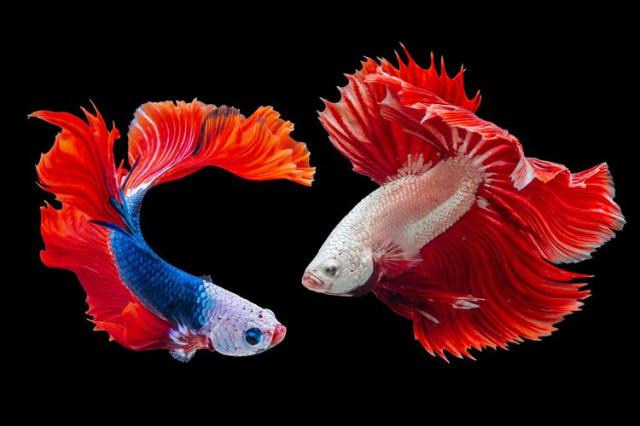Mulut: (286, 258, 340, 306), (254, 304, 296, 364)
Sirip Dada: (364, 214, 438, 296), (158, 313, 225, 379)
